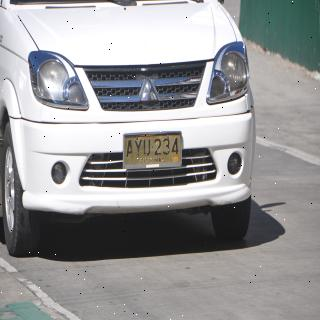license: (124, 133, 183, 169)
